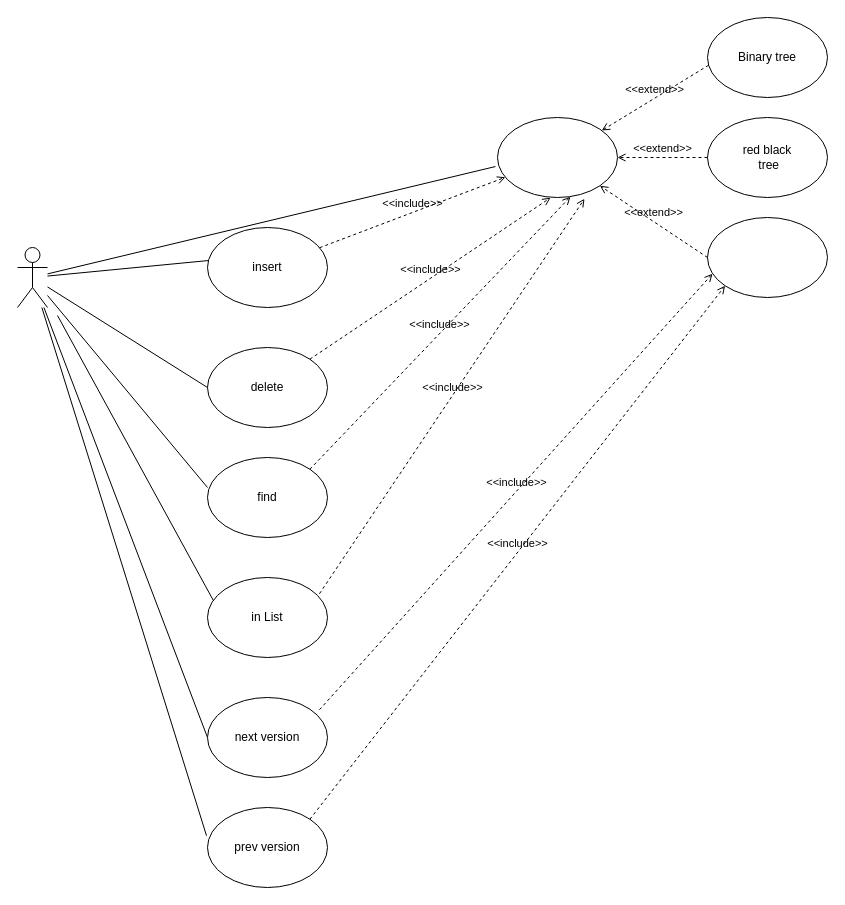
The diagram is 845 pixels wide and 905 high, and some of its shapes have lost their labels. The shapes that lost their labels are listed below. From the top down, each one's centre as x and y in pixels, then its label:
At (557,157): "choose tree".
At (32,277): "User".
At (767,257): "persistent red black tree".
